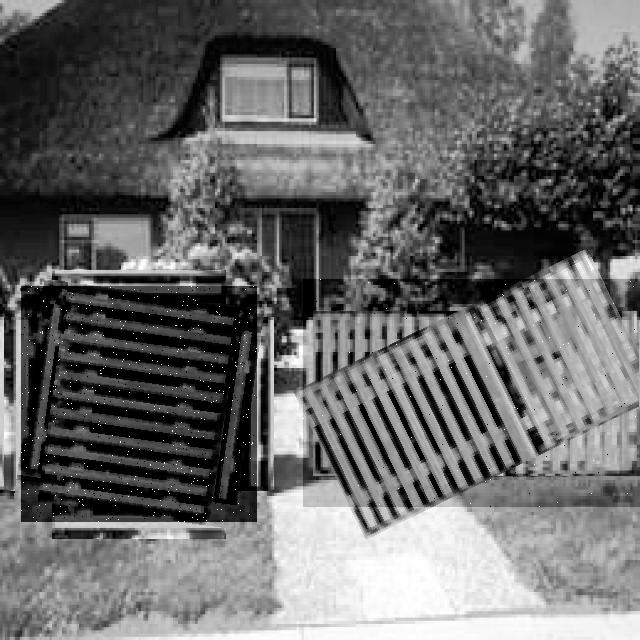fences: (303, 279, 640, 507), (21, 286, 257, 522)
